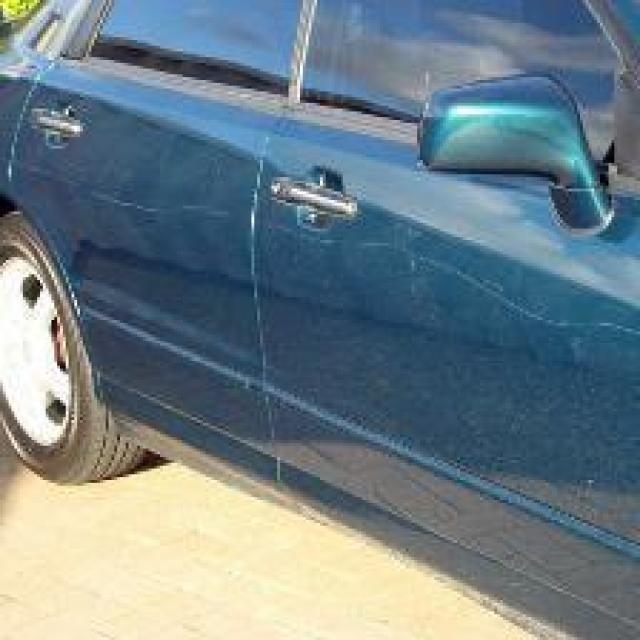damaged: (2, 152, 638, 352)
